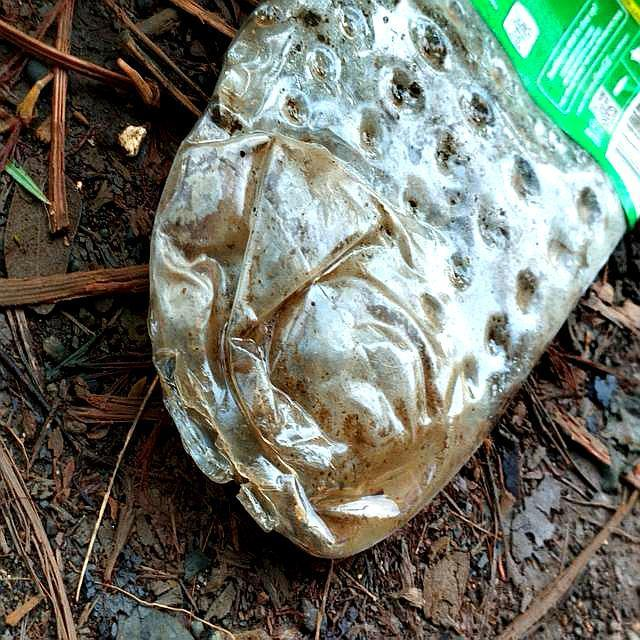Non-biodegradable: (83, 1, 640, 603)
